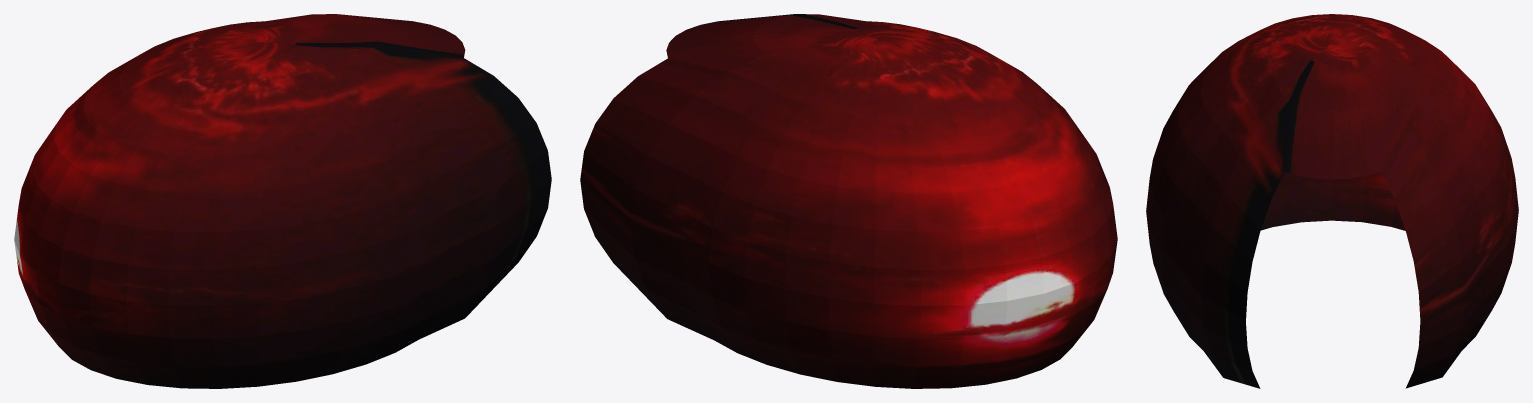
Rendered from Sky.gltf.
3 views of the same model, side by side, from view 1: azimuth 30°, elevation 25°; view 2: azimuth 150°, elevation 25°; view 3: azimuth 270°, elevation 25° (orthographic). The views are drawn at different scales.
Parts seen in each view (by area): view 1: sky and shaders; view 2: sky and shaders; view 3: sky and shaders.
Boxes of the visible parts, left/top/right/bottom form: sky and shaders: left=14, top=14, right=551, bottom=388; sky and shaders: left=580, top=14, right=1117, bottom=388; sky and shaders: left=1146, top=14, right=1518, bottom=388.
Size of the model in its own units: 699 by 388 by 499.
Materials: 1 (1 with a texture image).
